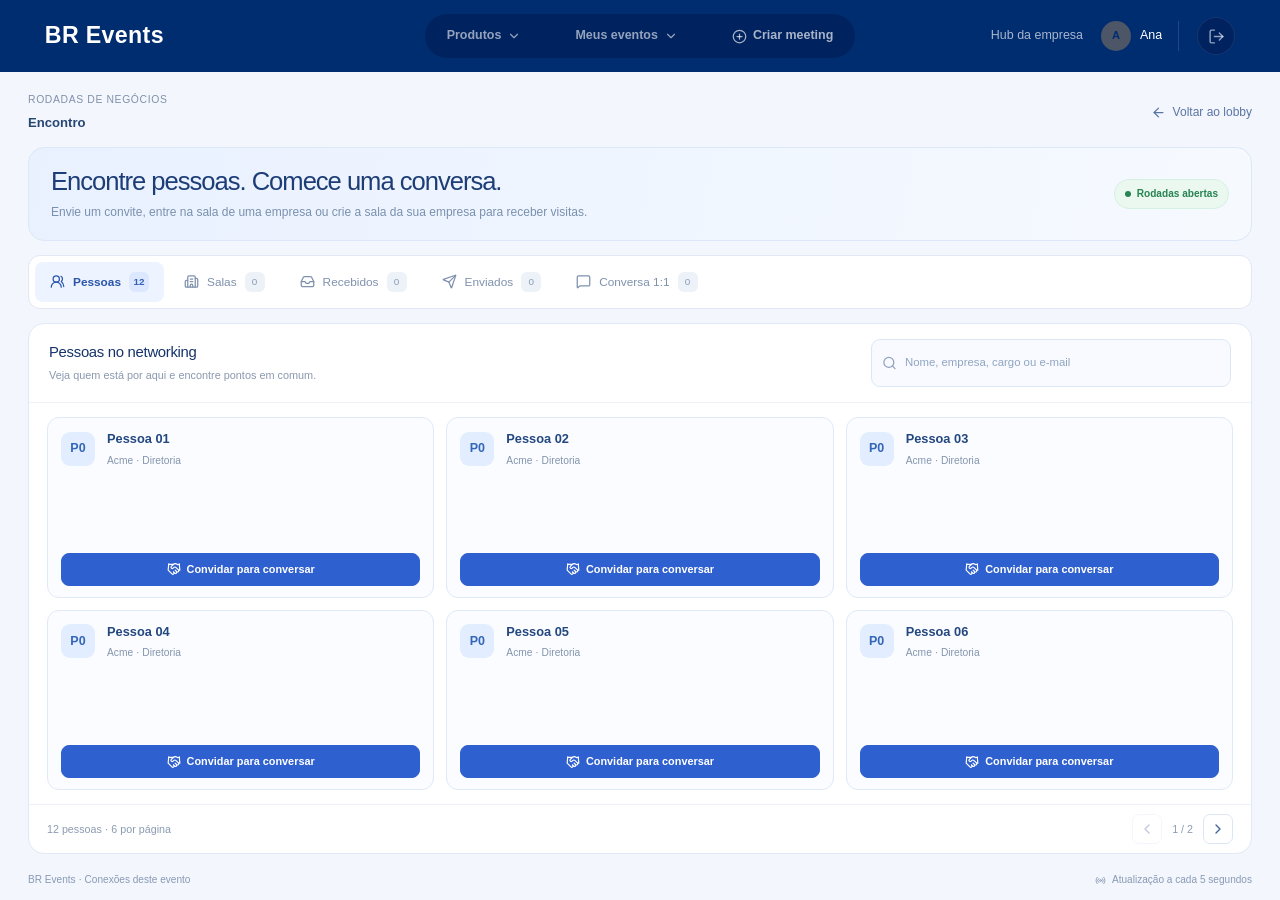
Test: networking › envia convite com assunto e permite cancelar pela aba Enviados
Click the button "Convidar para conversar" below "Pessoa 01" at (241, 569), box [61,553,420,586]
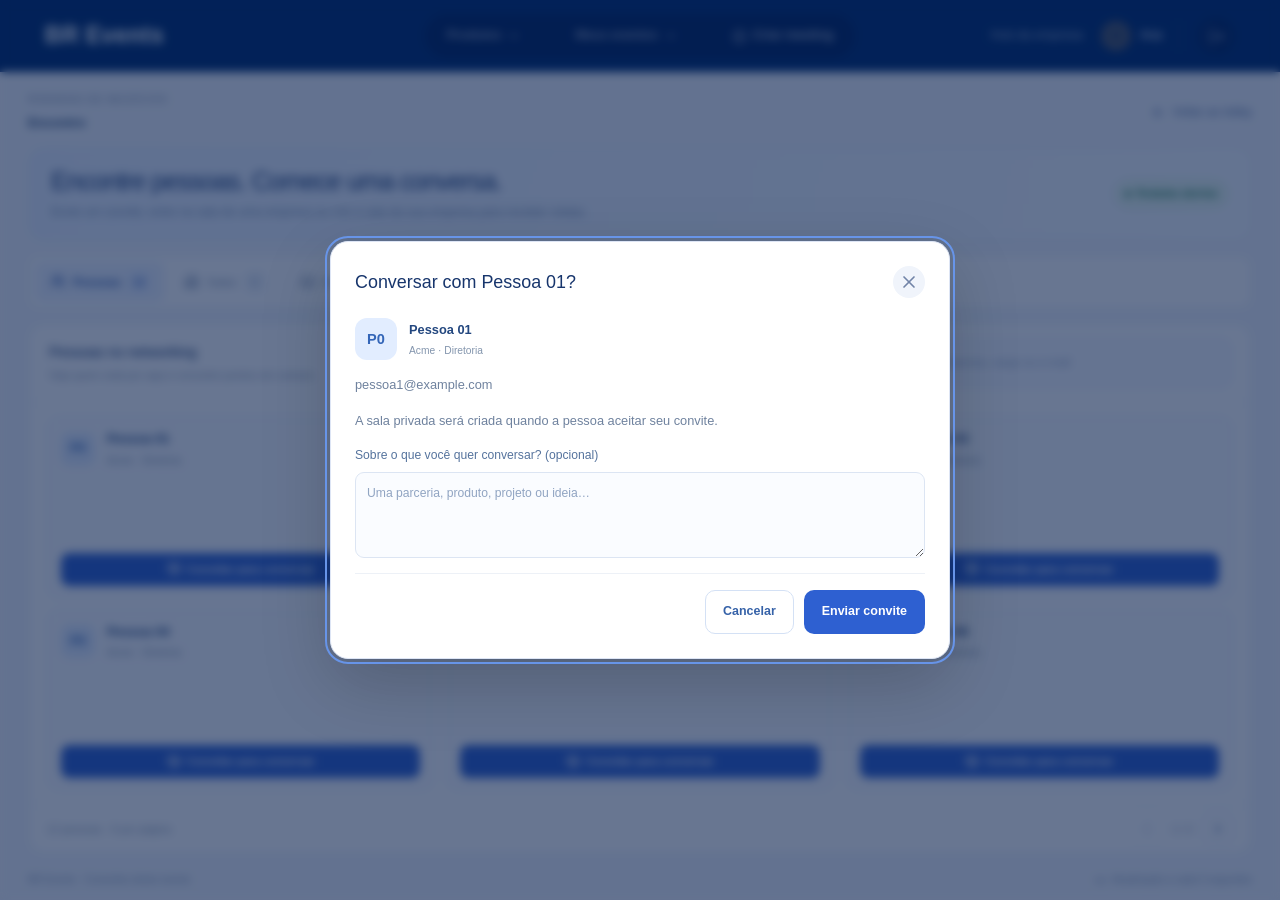
Type "Distribuição" into the text box at (640, 515), box [355,472,925,558]
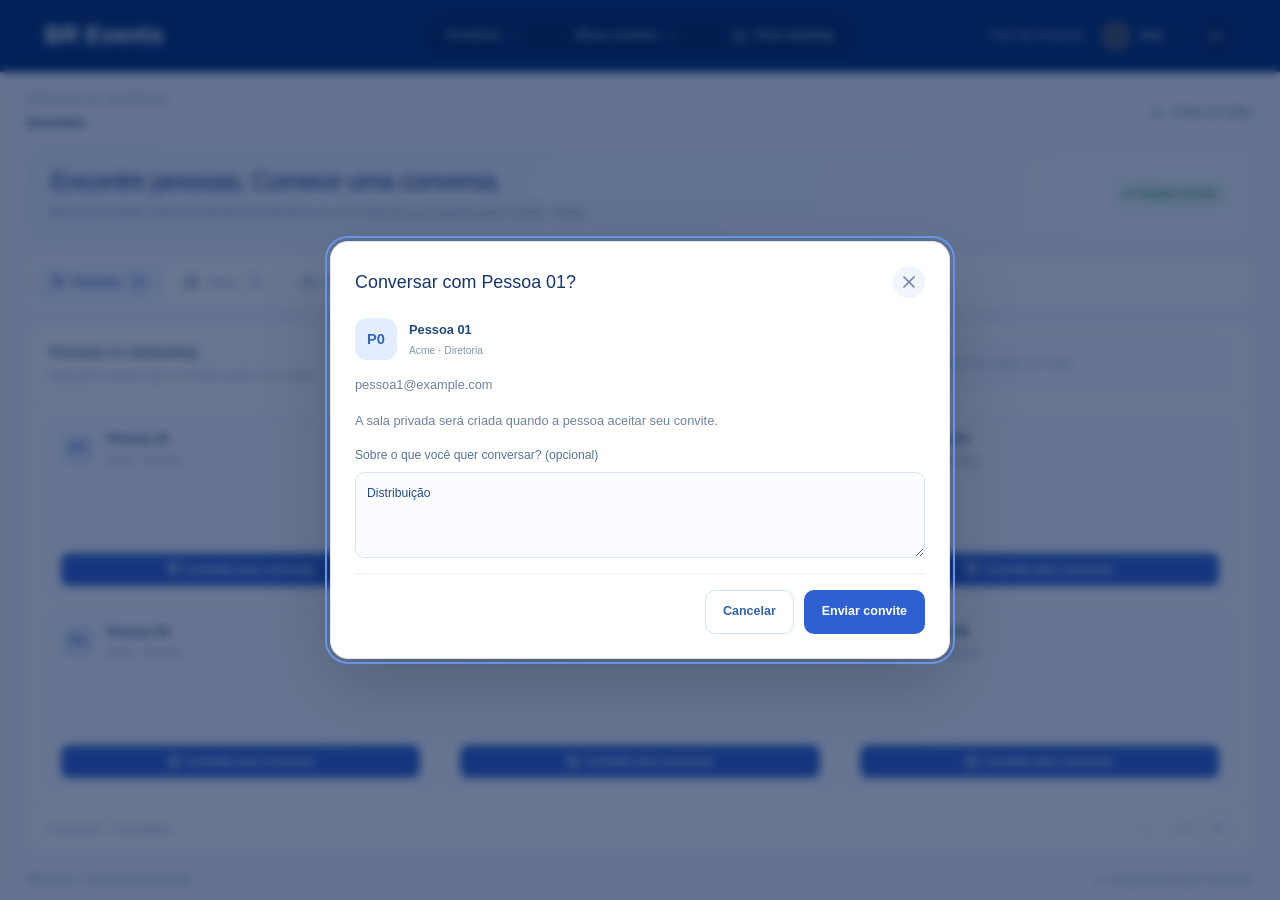
Click the button "Enviar convite" at (864, 612), box [804,590,925,634]
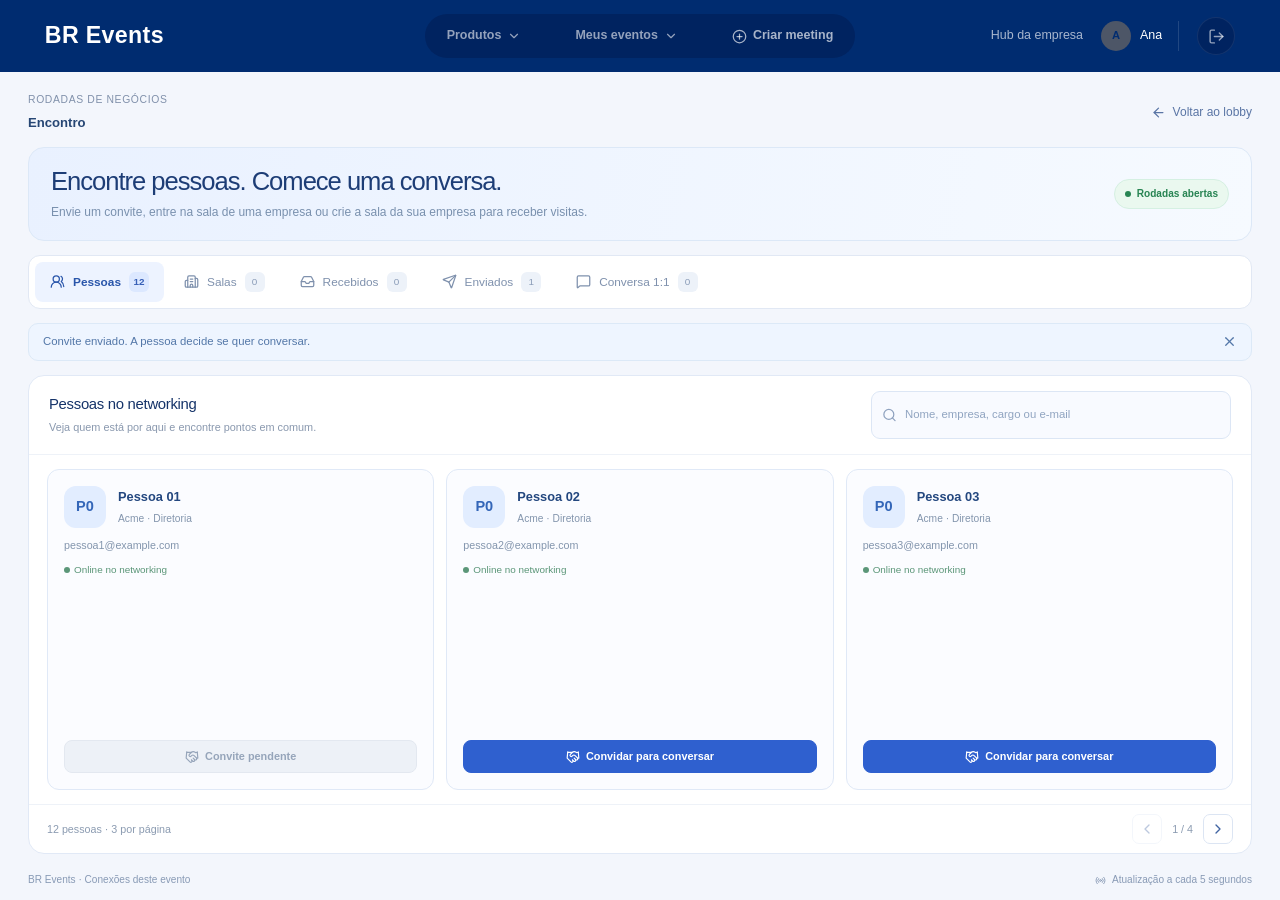
Check: the dialog is gone
Click the tab "Enviados 1" at (491, 282), box [426,262,556,302]
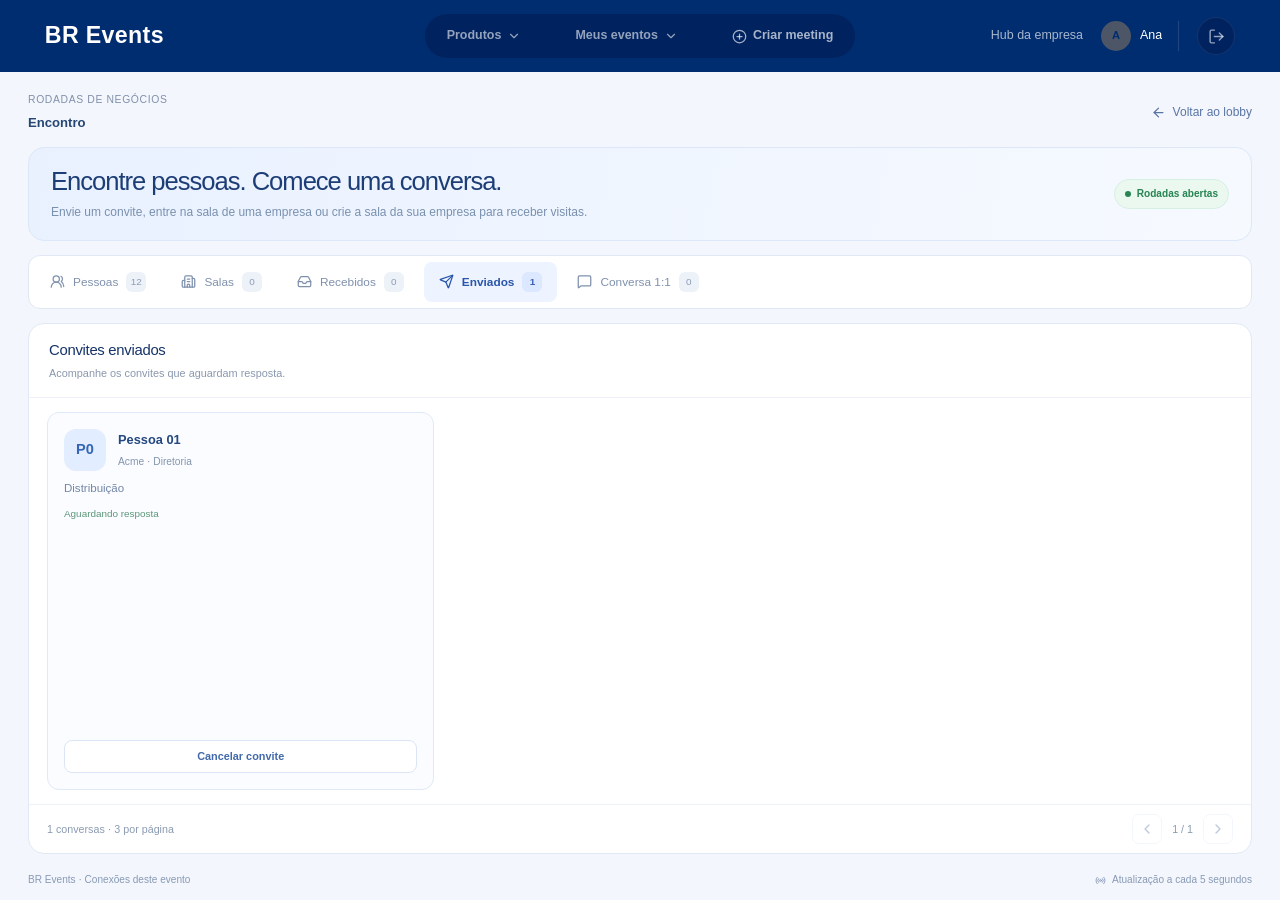
Click the button "Cancelar convite" at (241, 757), box [64,740,417,773]
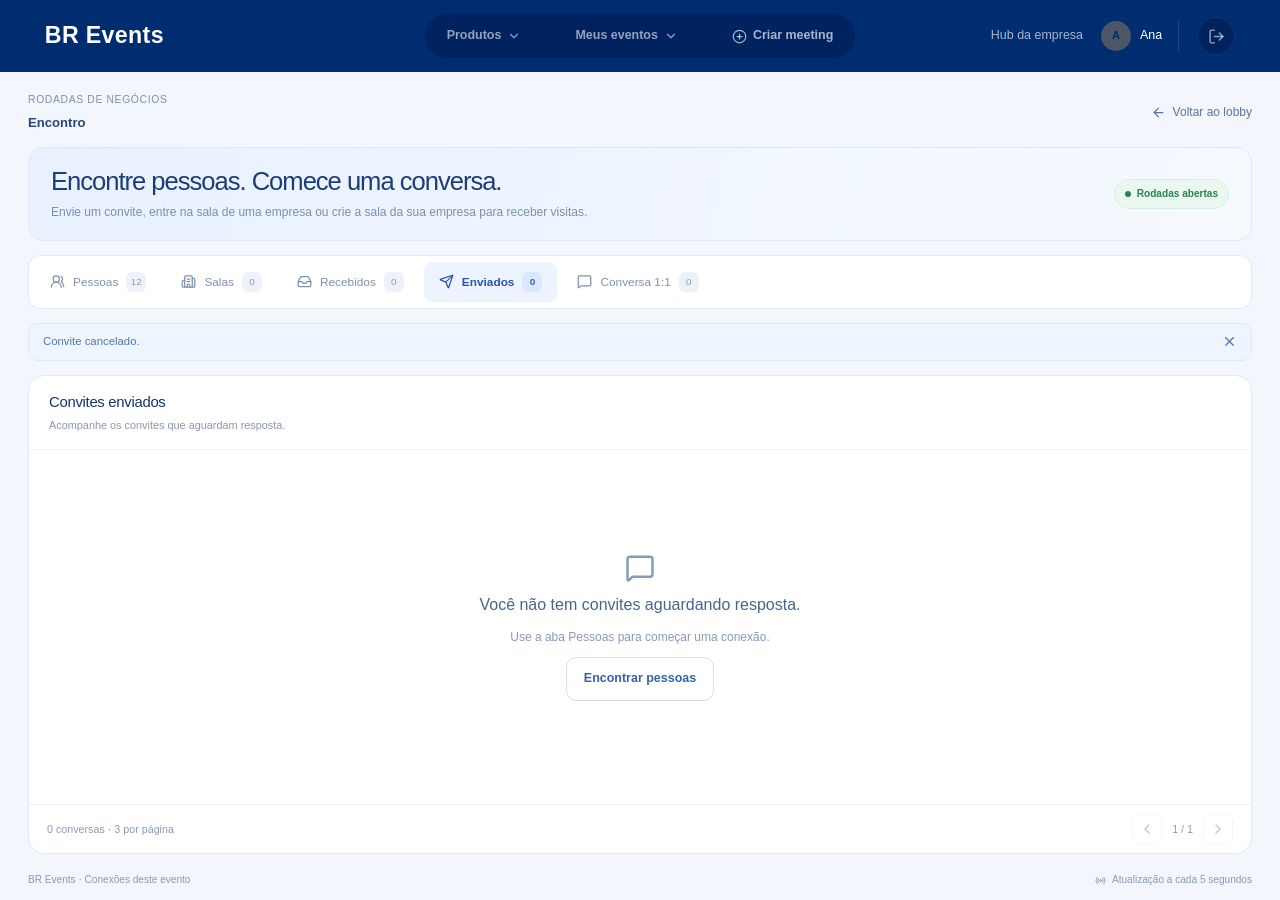
Check: the text "Convite cancelado." is shown, box [43,334,140,350]
